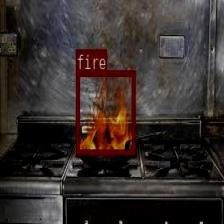fire: (75, 70, 134, 154)
